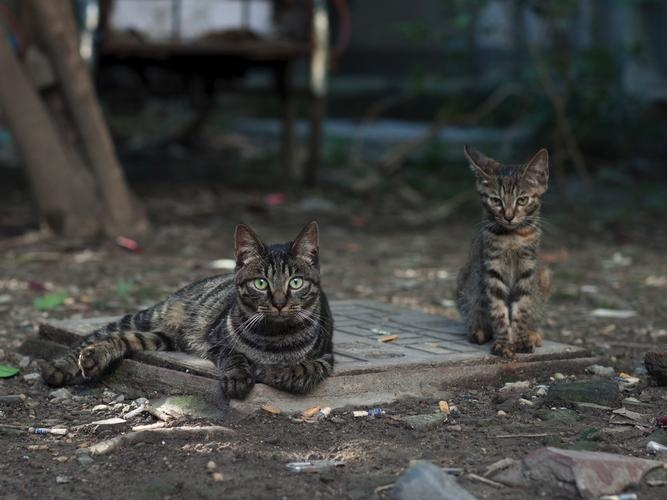cat: (40, 220, 335, 401), (455, 145, 551, 358)
